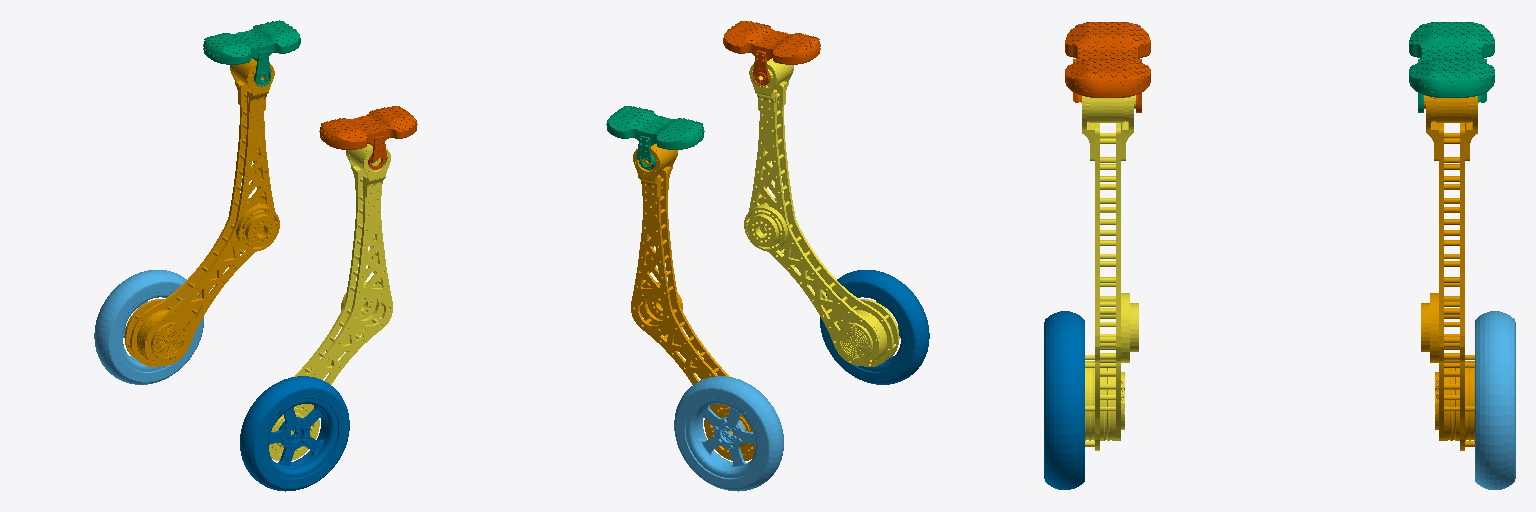
The robot description file, URDF, robot "LW":
<?xml version="1.0"?>
<robot name="LW">
  <link name="base_link">
    <inertial>
      <origin
        xyz="0.08622748 -0.00009382 -0.03217461"
        rpy="0 0 0" />
      <mass
        value="10.80229497" />
      <inertia
        ixx="0.11709101"
        ixy="-0.00048950"
        ixz="-0.00942922"
        iyy="0.12021585"
        iyz="0.00018346"
        izz="0.11536991" />
    </inertial>
    <visual>
      <origin xyz="0.000000 0.000000 0.000000" rpy="0.000000 0.000000 0.000000"/>
      <geometry>
        <mesh filename="meshes/base_link.stl"/>
      </geometry>
    </visual>
    <collision>
      <origin xyz="0.000000 0.000000 0.000000" rpy="0.000000 0.000000 0.000000"/>
      <geometry>
        <mesh filename="meshes/base_link.stl"/>
      </geometry>
    </collision>
  </link>
  <link name="right_hip_link">
    <inertial>
      <origin
        xyz="0.01340414 0.00183962 0.00079948"
        rpy="0 0 0" />
      <mass
        value="1.72818563" />
      <inertia
        ixx="0.00165391"
        ixy="0.00027486"
        ixz="0.00003201"
        iyy="0.00319020"
        iyz="0.00000622"
        izz="0.00286098" />
    </inertial>
    <visual>
      <origin xyz="0.000000 0.000000 0.000000" rpy="0.000000 0.000000 0.000000"/>
      <geometry>
        <mesh filename="meshes/right_hip.stl"/>
      </geometry>
    </visual>
    <collision>
      <origin xyz="0.000000 0.000000 0.000000" rpy="0.000000 0.000000 0.000000"/>
      <geometry>
        <mesh filename="meshes/right_hip.stl"/>
      </geometry>
      <!-- <origin xyz="0 0 0" rpy="1.57 0 0"/>
        <geometry>
            <cylinder length="0.05" radius="0.05"/>
        </geometry> -->
    </collision>
  </link>
  <link name="right_thigh_link">
    <inertial>
      <origin
        xyz="0.00174903 0.01643291 -0.19383909"
        rpy="0 0 0" />
      <mass
        value="2.16888452" />
      <inertia
        ixx="0.02576180"
        ixy="0.00001908"
        ixz="0.00026483"
        iyy="0.02681836"
        iyz="0.00092532"
        izz="0.00237267" />
    </inertial>
    <visual>
      <origin xyz="0.000000 0.000000 0.000000" rpy="0.000000 0.000000 0.000000"/>
      <geometry>
        <mesh filename="meshes/right_thigh.stl"/>
      </geometry>
    </visual>
    <collision>
      <origin xyz="0.000000 0.000000 0.000000" rpy="0.000000 0.000000 0.000000"/>
      <geometry>
        <mesh filename="meshes/right_thigh.stl"/>
      </geometry>
    </collision>
  </link>
  <link name="right_shank_link">
    <inertial>
      <origin
        xyz="-0.09288440 -0.01658216 -0.01223815"
        rpy="0 0 0" />
      <mass
        value="2.30578457" />
      <inertia
        ixx="0.09092903"
        ixy="-0.00157189"
        ixz="-0.03532732"
        iyy="0.10932477"
        iyz="-0.00205094"
        izz="0.01992021" />
    </inertial>
    <visual>
      <origin xyz="0.000000 0.000000 0.000000" rpy="0.000000 0.000000 0.000000"/>
      <geometry>
        <mesh filename="meshes/right_shank.stl"/>
      </geometry>
    </visual>
    <collision>
      <origin xyz="0.000000 0.000000 0.000000" rpy="0.000000 0.000000 0.000000"/>
      <geometry>
        <mesh filename="meshes/right_shank.stl"/>
      </geometry>
    </collision>
  </link>
  <link name="right_wheel_link">
    <inertial>
      <origin
        xyz="0.0 -0.00436057 0.0"
        rpy="0 0 0" />
      <mass
        value="1.22089955" />
      <inertia
        ixx="0.00407557"
        ixy="0.0"
        ixz="0.0"
        iyy="0.00773266"
        iyz="0.0"
        izz="0.00407557" />
    </inertial>
    <visual>
      <origin xyz="0.000000 0.000000 0.000000" rpy="0.000000 0.000000 0.000000"/>
      <geometry>
        <mesh filename="meshes/right_wheel.stl"/>
      </geometry>
    </visual>
    <collision>
      <origin xyz="0.000000 0.000000 0.000000" rpy="0.000000 0.000000 0.000000"/>
      <geometry>
        <mesh filename="meshes/right_wheel.stl"/>
      </geometry>
    </collision>
  </link>
  <link name="right_foot_link">
    <inertial>
      <origin
        xyz="0.0 0.00040100 0.04890106"
        rpy="0 0 0" />
      <mass
        value="0.44560421"/>
      <inertia
        ixx="0.00043846"
        ixy="0.0"
        ixz="0.0"
        iyy="0.00103428"
        iyz="0.00001060"
        izz="0.00127123" />
    </inertial>
    <visual>
      <origin xyz="0.000000 0.000000 0.000000" rpy="0.000000 0.000000 0.000000"/>
      <geometry>
        <mesh filename="meshes/right_foot.stl"/>
      </geometry>
    </visual>
    <collision>
      <origin xyz="0.000000 0.000000 0.000000" rpy="0.000000 0.000000 0.000000"/>
      <geometry>
        <mesh filename="meshes/right_foot.stl"/>
      </geometry>
    </collision>
  </link>
  <link name="left_hip_link">
    <inertial>
      <origin
        xyz="0.00900513 -0.00183962 0.00079947"
        rpy="0 0 0" />
      <mass
        value="1.72818563" />
      <inertia
        ixx="0.00165391"
        ixy="-0.00023325"
        ixz="-0.00000105"
        iyy="0.00336057"
        iyz="-0.00000622"
        izz="0.00303134" />
    </inertial>
    <visual>
      <origin xyz="0.000000 0.000000 0.000000" rpy="0.000000 0.000000 0.000000"/>
      <geometry>
        <mesh filename="meshes/left_hip.stl"/>
      </geometry>
    </visual>
    <collision>
      <origin xyz="0.000000 0.000000 0.000000" rpy="0.000000 0.000000 0.000000"/>
      <geometry>
        <mesh filename="meshes/left_hip.stl"/>
      </geometry>
    </collision>
  </link>
  <link name="left_thigh_link">
    <inertial>
      <origin
        xyz="-0.00175614 -0.01643299 -0.19384029"
        rpy="0 0 0" />
      <mass
        value="2.16887113"/>
      <inertia
        ixx="0.02576130"
        ixy="0.00001943"
        ixz="-0.00026512"
        iyy="0.02681777"
        iyz="-0.00092528"
        izz="0.00237258" />
    </inertial>
    <visual>
      <origin xyz="0.000000 0.000000 0.000000" rpy="0.000000 0.000000 0.000000"/>
      <geometry>
        <mesh filename="meshes/left_thigh.stl"/>
      </geometry>
    </visual>
    <collision>
      <origin xyz="0.000000 0.000000 0.000000" rpy="0.000000 0.000000 0.000000"/>
      <geometry>
        <mesh filename="meshes/left_thigh.stl"/>
      </geometry>
    </collision>
  </link>
  <link name="left_shank_link">
    <inertial>
      <origin
        xyz="-0.09290562 0.01658216 -0.01221693"
        rpy="0 0 0" />
      <mass
        value="2.30578457" />
      <inertia
        ixx="0.09091198"
        ixy="0.00157085"
        ixz="-0.03533124"
        iyy="0.10931687"
        iyz="0.00205198"
        izz="0.01992936" />
    </inertial>
    <visual>
      <origin xyz="0.000000 0.000000 0.000000" rpy="0.000000 0.000000 0.000000"/>
      <geometry>
        <mesh filename="meshes/left_shank.stl"/>
      </geometry>
    </visual>
    <collision>
      <origin xyz="0.000000 0.000000 0.000000" rpy="0.000000 0.000000 0.000000"/>
      <geometry>
        <mesh filename="meshes/left_shank.stl"/>
      </geometry>
    </collision>
  </link>
  <link name="left_wheel_link">
    <inertial>
      <origin
        xyz="0.0 0.00436057 0.0"
        rpy="0 0 0" />
      <mass
        value="1.22089955" />
      <inertia
        ixx="0.00407557"
        ixy="0.0"
        ixz="0.0"
        iyy="0.00773266"
        iyz="0.0"
        izz="0.00407557" />
    </inertial>
    <visual>
      <origin xyz="0.000000 0.000000 0.000000" rpy="0.000000 0.000000 0.000000"/>
      <geometry>
        <mesh filename="meshes/left_wheel.stl"/>
      </geometry>
    </visual>
    <collision>
      <origin xyz="0.000000 0.000000 0.000000" rpy="0.000000 0.000000 0.000000"/>
      <geometry>
        <mesh filename="meshes/left_wheel.stl"/>
      </geometry>
    </collision>
  </link>
  <link name="left_foot_link">
    <inertial>
      <origin
        xyz="0.0 -0.00040100 0.04890106"
        rpy="0 0 0" />
      <mass
        value="0.44560421" />
      <inertia
        ixx="0.00043846"
        ixy="0.0"
        ixz="0.0"
        iyy="0.00103428"
        iyz="-0.00001060"
        izz="0.00127123" />
    </inertial>
    <visual>
      <origin xyz="0.000000 0.000000 0.000000" rpy="0.000000 0.000000 0.000000"/>
      <geometry>
        <mesh filename="meshes/left_foot.stl"/>
      </geometry>
    </visual>
    <collision>
      <origin xyz="0.000000 0.000000 0.000000" rpy="0.000000 0.000000 0.000000"/>
      <geometry>
        <mesh filename="meshes/left_foot.stl"/>
      </geometry>
    </collision>
  </link>

  <!--脚底虚拟接触点-->
  <link name="right_foot_upper_right"/>
  <link name="right_foot_upper_left"/>
  <link name="right_foot_lower_right"/>
  <link name="right_foot_lower_left"/>
  <link name="left_foot_upper_right"/>
  <link name="left_foot_upper_left"/>
  <link name="left_foot_lower_right"/>
  <link name="left_foot_lower_left"/>
  <!--轮底滚动虚拟接触点-->
  <link name="right_wheel_contact_link"/>
  <link name="left_wheel_contact_link"/>

  <joint name="right_wheel_contact_joint" type="fixed">
    <parent link="right_shank_link"/>
    <child link="right_wheel_contact_link"/>
    <origin xyz="-0.241876 -0.061000 -0.276711" rpy="0 0 0"/>
  </joint>
  <joint name="left_wheel_contact_joint" type="fixed">
    <parent link="left_shank_link"/>
    <child link="left_wheel_contact_link"/>
    <origin xyz="-0.241876 0.061000 -0.276711" rpy="0 0 0"/>
  </joint>

  <joint name="right_foot_upper_right_fix_joint" type="fixed">
    <parent link="right_foot_link"/>
    <child link="right_foot_upper_right"/>
    <origin xyz="-0.065 -0.03 0.07" rpy="0 3.1415926 0"/>
  </joint>
  <joint name="right_foot_upper_left_fix_joint" type="fixed">
    <parent link="right_foot_link"/>
    <child link="right_foot_upper_left"/>
    <origin xyz="-0.065 0.03 0.07" rpy="0 3.1415926 0"/>
  </joint>
  <joint name="right_foot_lower_right_fix_joint" type="fixed">
    <parent link="right_foot_link"/>
    <child link="right_foot_lower_right"/>
    <origin xyz="0.065 -0.03 0.07" rpy="0 3.1415926 0"/>
  </joint>
  <joint name="right_foot_lower_left_fix_joint" type="fixed">
    <parent link="right_foot_link"/>
    <child link="right_foot_lower_left"/>
    <origin xyz="0.065 0.03 0.07" rpy="0 3.1415926 0"/>
  </joint>

  <joint name="left_foot_upper_right_fix_joint" type="fixed">
    <parent link="left_foot_link"/>
    <child link="left_foot_upper_right"/>
    <origin xyz="-0.065 -0.03 0.07" rpy="0 3.1415926 0"/>
  </joint>
  <joint name="left_foot_upper_left_fix_joint" type="fixed">
    <parent link="left_foot_link"/>
    <child link="left_foot_upper_left"/>
    <origin xyz="-0.065 0.03 0.07" rpy="0 3.1415926 0"/>
  </joint>
  <joint name="left_foot_lower_right_fix_joint" type="fixed">
    <parent link="left_foot_link"/>
    <child link="left_foot_lower_right"/>
    <origin xyz="0.065 -0.03 0.07" rpy="0 3.1415926 0"/>
  </joint>
  <joint name="left_foot_lower_left_fix_joint" type="fixed">
    <parent link="left_foot_link"/>
    <child link="left_foot_lower_left"/>
    <origin xyz="0.065 0.03 0.07" rpy="0 3.1415926 0"/>
  </joint>

  <!-- <joint name="right_wheel_upper_right_fix_joint" type="fixed">
    <parent link="right_shank_link"/>
    <child link="right_wheel_upper_right"/>
    <origin xyz="-0.231876 -0.071000 -0.276711" rpy="0 0 0"/>
  </joint>
  <joint name="right_wheel_upper_left_fix_joint" type="fixed">
    <parent link="right_shank_link"/>
    <child link="right_wheel_upper_left"/>
    <origin xyz="-0.231876 -0.051000 -0.276711" rpy="0 0 0"/>
  </joint>
  <joint name="right_wheel_lower_right_fix_joint" type="fixed">
    <parent link="right_shank_link"/>
    <child link="right_wheel_lower_right"/>
    <origin xyz="-0.251876 -0.071000 -0.276711" rpy="0 0 0"/>
  </joint>
  <joint name="right_wheel_lower_left_fix_joint" type="fixed">
    <parent link="right_shank_link"/>
    <child link="right_wheel_lower_left"/>
    <origin xyz="-0.251876 -0.051000 -0.276711" rpy="0 0 0"/>
  </joint>

  <joint name="left_wheel_upper_right_fix_joint" type="fixed">
    <parent link="left_shank_link"/>
    <child link="left_wheel_upper_right"/>
    <origin xyz="-0.231876 0.051000 -0.276711" rpy="0 0 0"/>
  </joint>
  <joint name="left_wheel_upper_left_fix_joint" type="fixed">
    <parent link="left_shank_link"/>
    <child link="left_wheel_upper_left"/>
    <origin xyz="-0.231876 0.071000 -0.276711" rpy="0 0 0"/>
  </joint>
  <joint name="left_wheel_lower_right_fix_joint" type="fixed">
    <parent link="left_shank_link"/>
    <child link="left_wheel_lower_right"/>
    <origin xyz="-0.251876 0.051000 -0.276711" rpy="0 0 0"/>
  </joint>
  <joint name="left_wheel_lower_left_fix_joint" type="fixed">
    <parent link="left_shank_link"/>
    <child link="left_wheel_lower_left"/>
    <origin xyz="-0.251876 0.071000 -0.276711" rpy="0 0 0"/>
  </joint> -->

  <joint name="right_hip_joint" type="revolute">
    <parent link="base_link"/>
    <child link="right_hip_link"/>
    <origin xyz="-0.077000 -0.080000 -0.115700" rpy="0.000000 -0.000000 0.000000"/>
    <axis xyz="-1.000000 0.000000 0.000000"/>
    <limit lower="-1.570796" upper="1.570796" effort="120.000000" velocity="20.000000"/>
  </joint>
  <joint name="left_hip_joint" type="revolute">
    <parent link="base_link"/>
    <child link="left_hip_link"/>
    <origin xyz="-0.077000 0.080000 -0.115700" rpy="0.000000 -0.000000 0.000000"/>
    <axis xyz="-1.000000 0.000000 0.000000"/>
    <limit lower="-1.570796" upper="1.570796" effort="120.000000" velocity="20.000000"/>
  </joint>
  <joint name="right_thigh_joint" type="revolute">
    <parent link="right_hip_link"/>
    <child link="right_thigh_link"/>
    <origin xyz="0.000000 -0.072000 0.000000" rpy="0.000000 -0.000000 0.000000"/>
    <axis xyz="0.000000 -1.000000 0.000000"/>
    <limit lower="-1.570796" upper="1.570796" effort="120.000000" velocity="20.000000"/>
  </joint>
  <joint name="left_thigh_joint" type="revolute">
    <parent link="left_hip_link"/>
    <child link="left_thigh_link"/>
    <origin xyz="0.000000 0.072000 0.000000" rpy="0.000000 -0.000000 0.000000"/>
    <axis xyz="0.000000 1.000000 0.000000"/>
    <limit lower="-1.570796" upper="1.570796" effort="120.000000" velocity="20.000000"/>
  </joint>
  <joint name="right_shank_joint" type="revolute">
    <parent link="right_thigh_link"/>
    <child link="right_shank_link"/>
    <origin xyz="0.000000 -0.045000 -0.260000" rpy="0.000000 -0.000000 0.000000"/>
    <axis xyz="0.000000 -1.000000 0.000000"/>
    <limit lower="-3.141593" upper="3.141593" effort="120.000000" velocity="20.000000"/>
  </joint>
  <joint name="left_shank_joint" type="revolute">
    <parent link="left_thigh_link"/>
    <child link="left_shank_link"/>
    <origin xyz="0.000000 0.045000 -0.260000" rpy="0.000000 -0.000000 0.000000"/>
    <axis xyz="0.000000 1.000000 0.000000"/>
    <limit lower="-3.141593" upper="3.141593" effort="120.000000" velocity="20.000000"/>
  </joint>
  <joint name="right_wheel_joint" type="revolute">
    <parent link="right_shank_link"/>
    <child link="right_wheel_link"/>
    <origin xyz="-0.183850 -0.061000 -0.183850" rpy="0.000000 -0.000000 0.000000"/>
    <axis xyz="0.000000 -1.000000 0.000000"/>
    <limit lower="-100.0" upper="100.0" effort="40.000000" velocity="33.000000"/>
  </joint>
  <joint name="left_wheel_joint" type="revolute">
    <parent link="left_shank_link"/>
    <child link="left_wheel_link"/>
    <origin xyz="-0.183850 0.061000 -0.183850" rpy="0.000000 -0.000000 0.000000"/>
    <axis xyz="0.000000 1.000000 0.000000"/>
    <limit lower="-100.0" upper="100.0" effort="40.000000" velocity="33.000000"/>
  </joint>
  <joint name="right_foot_joint" type="revolute">
    <parent link="right_shank_link"/>
    <child link="right_foot_link"/>
    <origin xyz="0.000000 -0.013000 0.307000" rpy="0.000000 -0.000000 0.000000"/>
    <axis xyz="0.000000 -1.000000 0.000000"/>
    <limit lower="-1.919862" upper="1.919862" effort="27.000000" velocity="10.000000"/>
  </joint>
  <joint name="left_foot_joint" type="revolute">
    <parent link="left_shank_link"/>
    <child link="left_foot_link"/>
    <origin xyz="0.000000 0.013000 0.307000" rpy="0.000000 -0.000000 0.000000"/>
    <axis xyz="0.000000 1.000000 0.000000"/>
    <limit lower="-1.919862" upper="1.919862" effort="27.000000" velocity="10.000000"/>
  </joint>
</robot>

--- What the picture shows (computed from the rendered views, not written in the file) ---
The picture shows the robot from 3 angles, left to right: view 1: azimuth 30°, elevation 25°; view 2: azimuth 150°, elevation 25°; view 3: azimuth 270°, elevation 25°; orthographic projection.
Robot: LW — 21 links, 20 joints (10 revolute, 10 fixed); root link base_link; default pose: all joints at 0.
Visible links, largest first — view 1: left_shank_link, right_shank_link, right_wheel_link, left_wheel_link, left_foot_link, right_foot_link; view 2: right_shank_link, left_shank_link, left_wheel_link, right_wheel_link, right_foot_link, left_foot_link; view 3: left_shank_link, right_shank_link, left_wheel_link, right_wheel_link, right_foot_link, left_foot_link.
Boxes of the visible links, bbox=[...] form: left_shank_link: bbox=[124, 58, 279, 366]; right_shank_link: bbox=[269, 144, 392, 460]; right_wheel_link: bbox=[240, 376, 349, 491]; left_wheel_link: bbox=[94, 270, 203, 384]; left_foot_link: bbox=[203, 20, 300, 86]; right_foot_link: bbox=[319, 106, 417, 169]; right_shank_link: bbox=[744, 58, 899, 366]; left_shank_link: bbox=[631, 144, 754, 460]; left_wheel_link: bbox=[674, 376, 783, 491]; right_wheel_link: bbox=[820, 270, 929, 384]; right_foot_link: bbox=[723, 21, 820, 86]; left_foot_link: bbox=[606, 106, 704, 169]; left_shank_link: bbox=[1421, 95, 1477, 450]; right_shank_link: bbox=[1082, 95, 1138, 450]; left_wheel_link: bbox=[1475, 311, 1515, 489]; right_wheel_link: bbox=[1044, 311, 1084, 489]; right_foot_link: bbox=[1065, 22, 1150, 112]; left_foot_link: bbox=[1409, 22, 1494, 112].
Bounding box of the posed robot: 0.3843 × 0.575 × 0.6713 m (x, y, z).
Meshes: 11 distinct files referenced, 6 mesh visuals loaded (6 binary STL); not drawn: 5 (reference not matched to a file when rendering).
